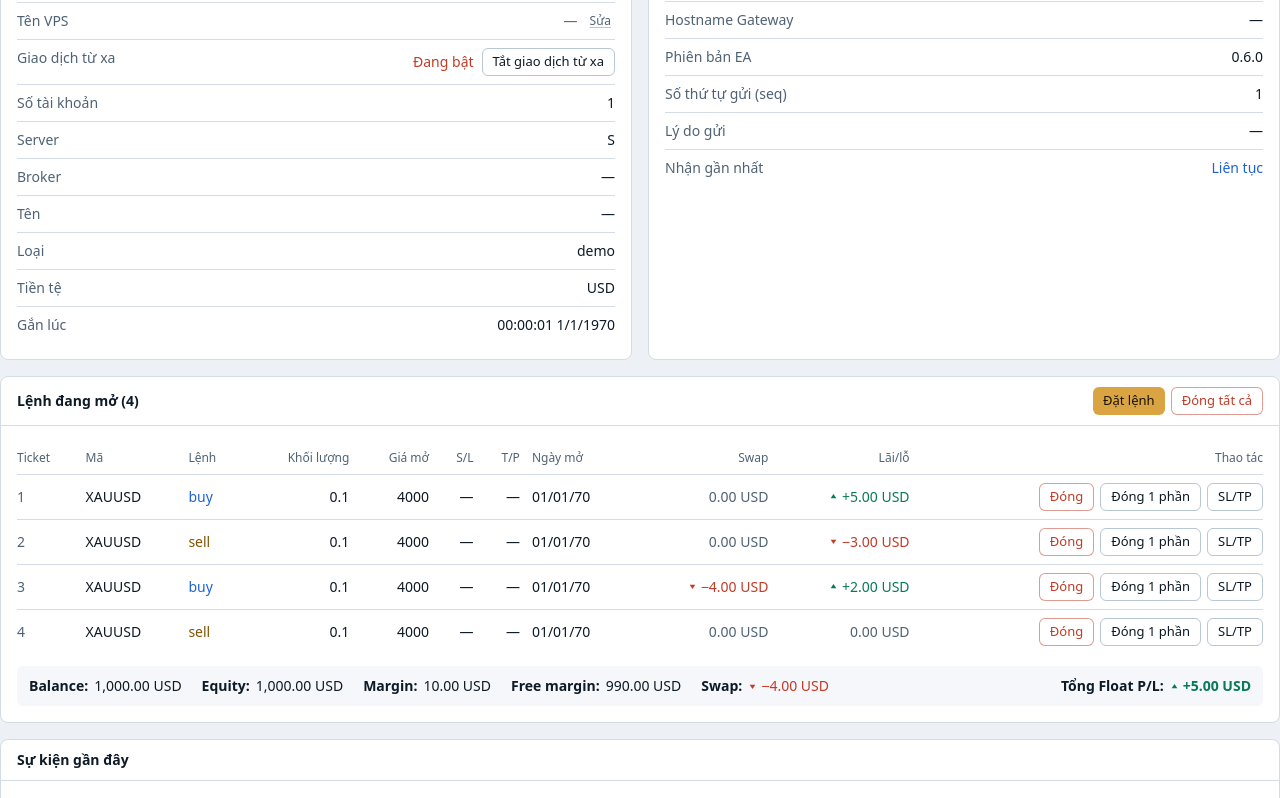
Test: Đặt lệnh Market › 202 chưa phải thành công; có kết quả mới báo, kèm ticket lệnh vừa tạo
(page scrolled)
Click the button "Đặt lệnh".
click(1129, 400)  # box [1093, 386, 1165, 414]
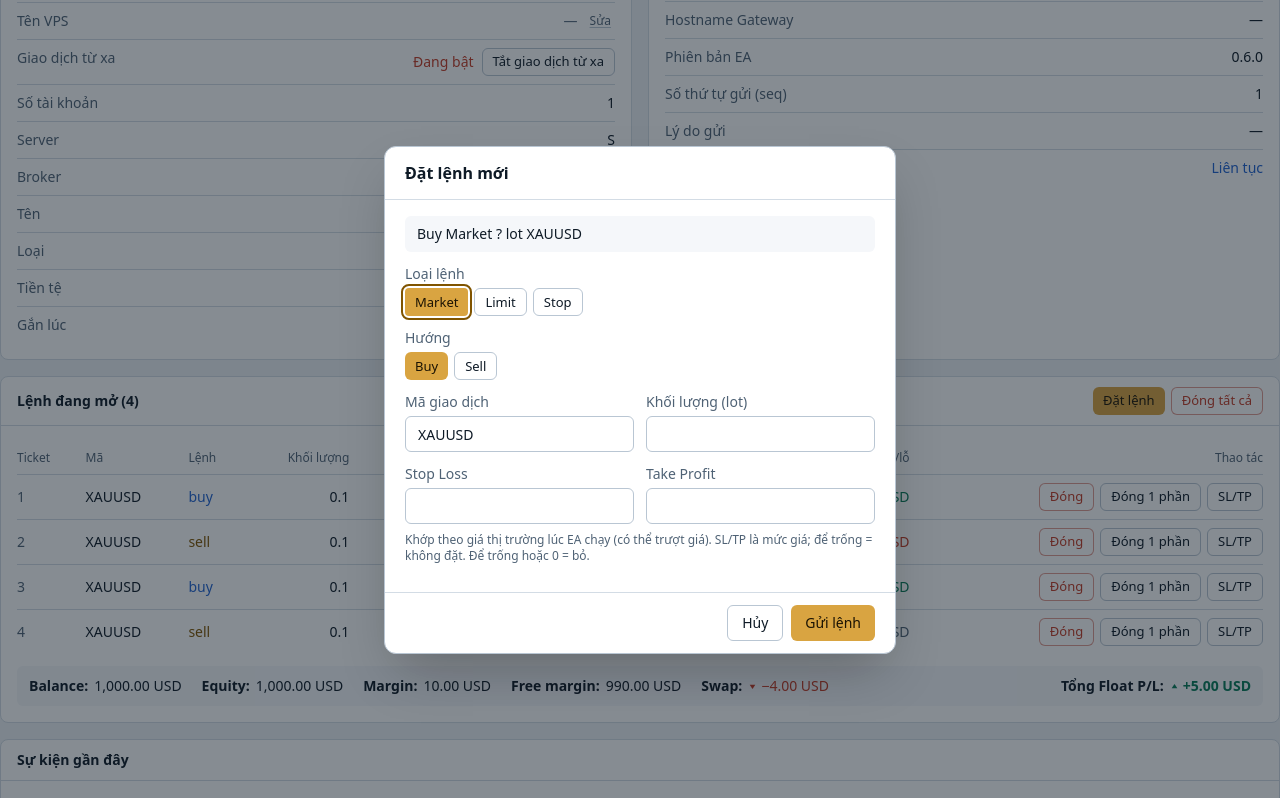
Type "0.1" into the field labelled "Khối lượng (lot)".
click(760, 434); type("0.1")  # box [646, 416, 875, 452]
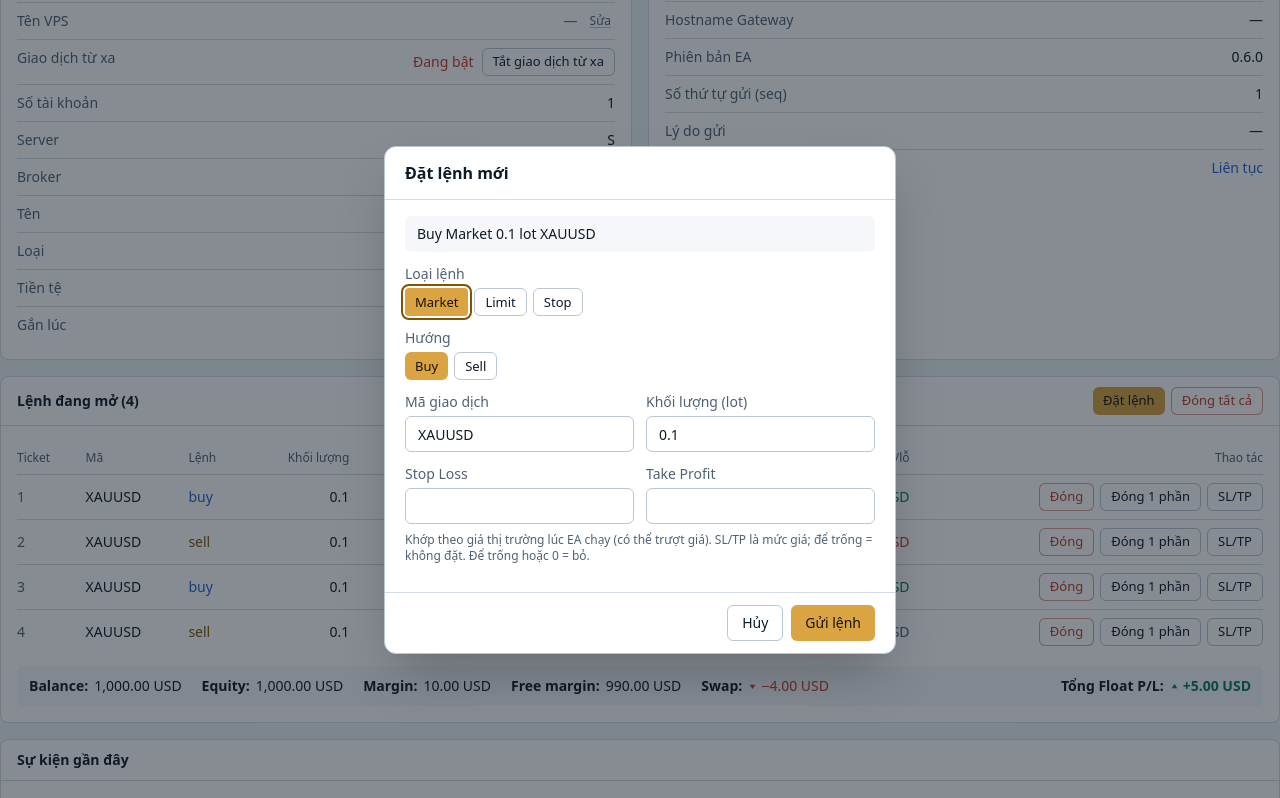
Click the button "Gửi lệnh".
click(833, 623)  # box [791, 605, 875, 641]
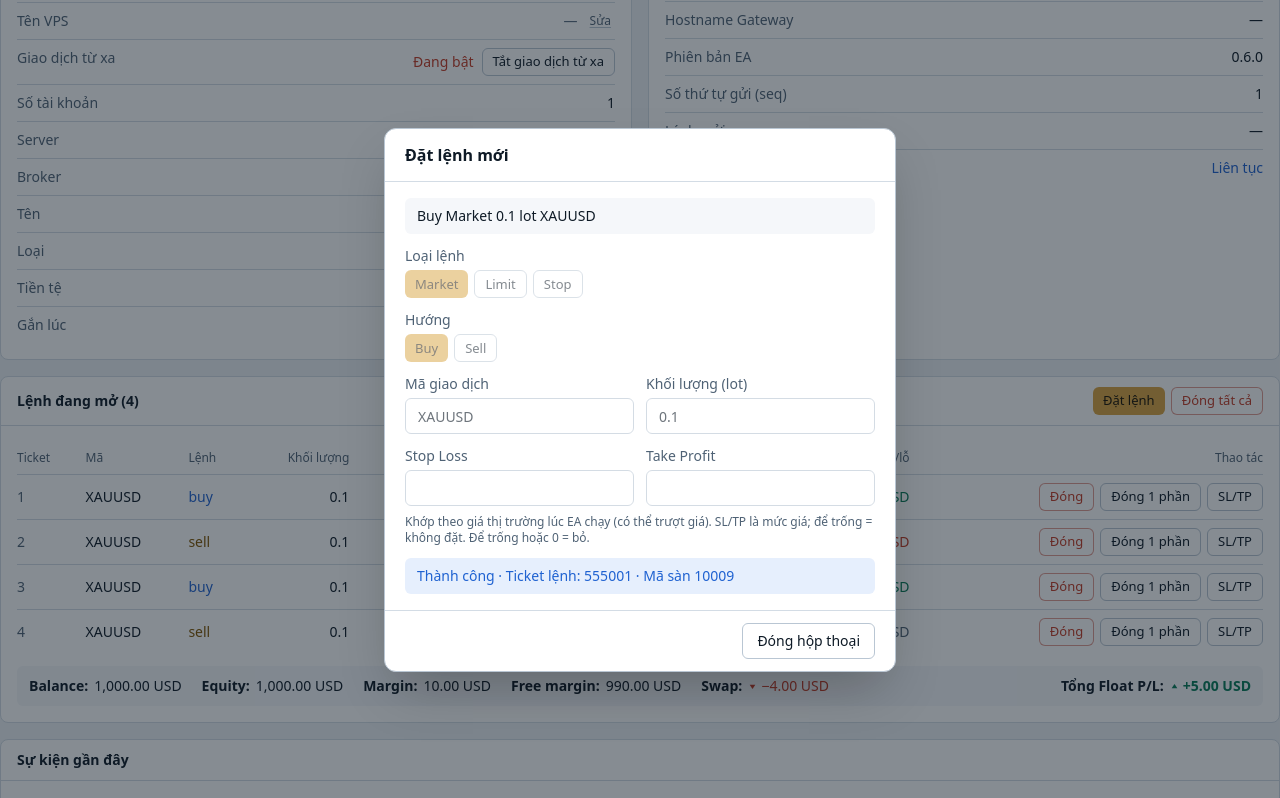
expect the text "Đã gửi, đang chờ sàn phản hồi…" is shown: met, box [405, 558, 875, 594]
